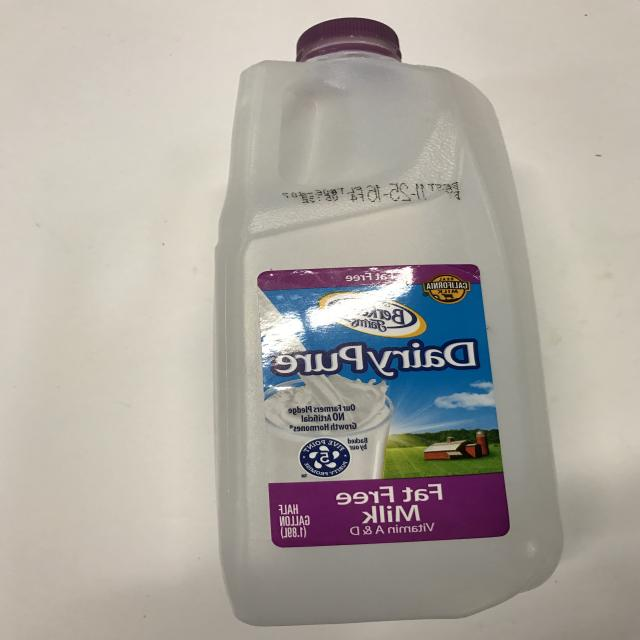plastic: (214, 18, 564, 627)
